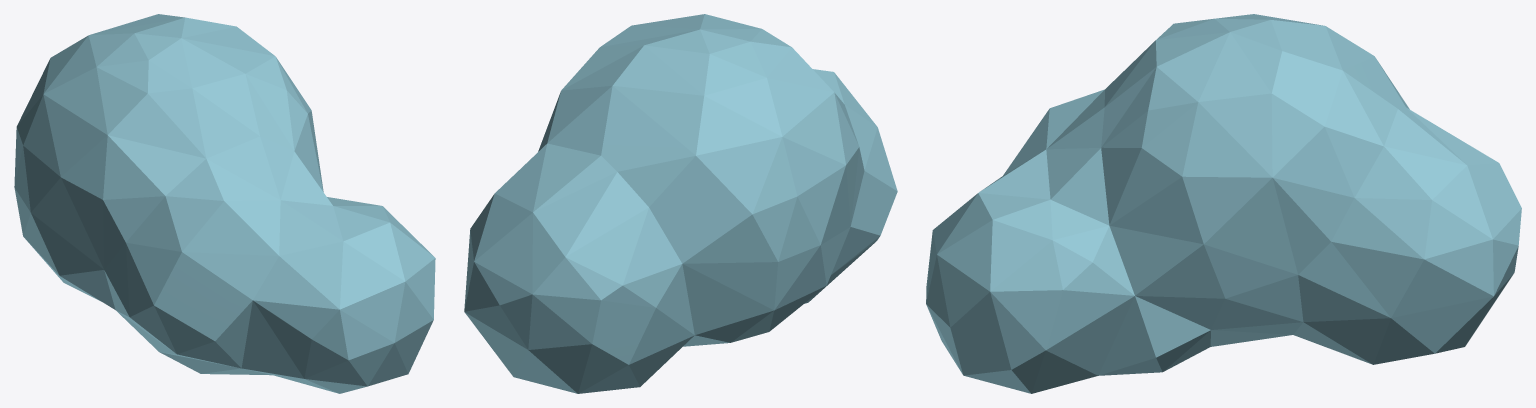
Rendered from cloud4.gltf.
3 renders of one model, left to right at view 1: azimuth 30°, elevation 25°; view 2: azimuth 150°, elevation 25°; view 3: azimuth 270°, elevation 25°, orthographic. The views are drawn at different scales.
Visible parts, largest first — view 1: cloud4_geo; view 2: cloud4_geo; view 3: cloud4_geo.
Boxes of the visible parts, x1,y1,x2,y2 form: cloud4_geo: [14, 14, 435, 393]; cloud4_geo: [464, 14, 897, 393]; cloud4_geo: [926, 14, 1521, 393].
Bounding box in the file's own units: 2.06 × 2.12 × 3.59.
